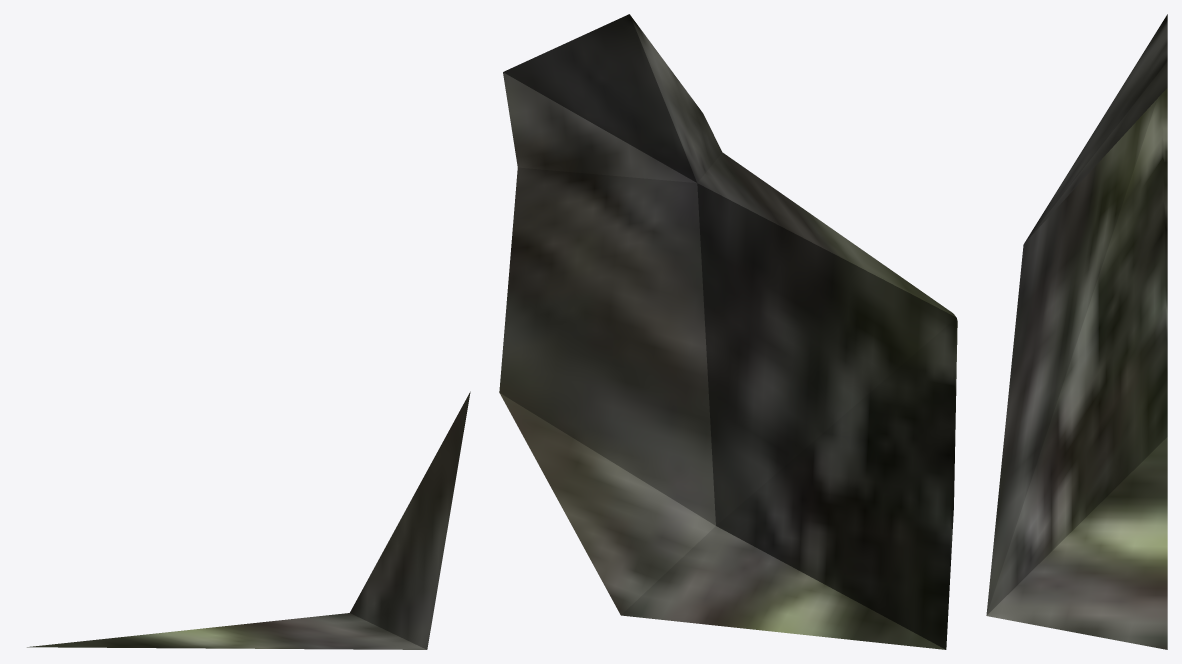
The picture shows the model from 3 angles, left to right: view 1: azimuth 30°, elevation 25°; view 2: azimuth 150°, elevation 25°; view 3: azimuth 270°, elevation 25°; orthographic projection. The views are drawn at different scales.
Bounding box in the file's own units: 0.4472 × 0.5629 × 0.1463.
Materials: 1 (1 with a texture image).
